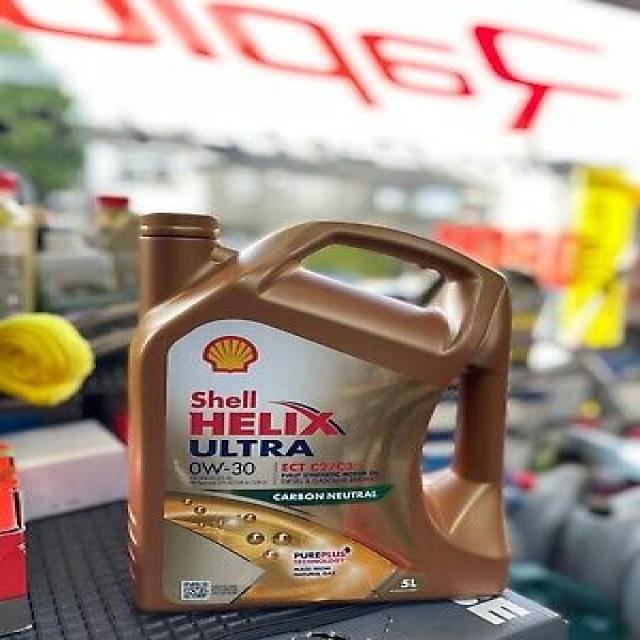motor_oil: (127, 204, 524, 606)
